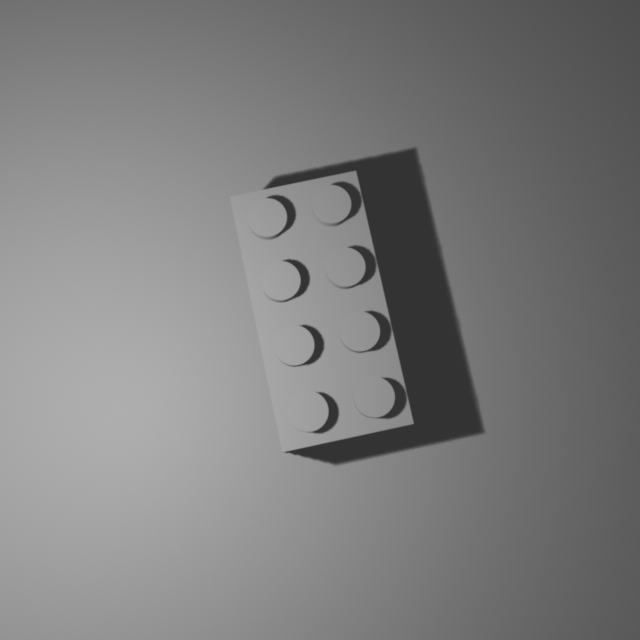lego_2x4: (229, 167, 415, 453)
